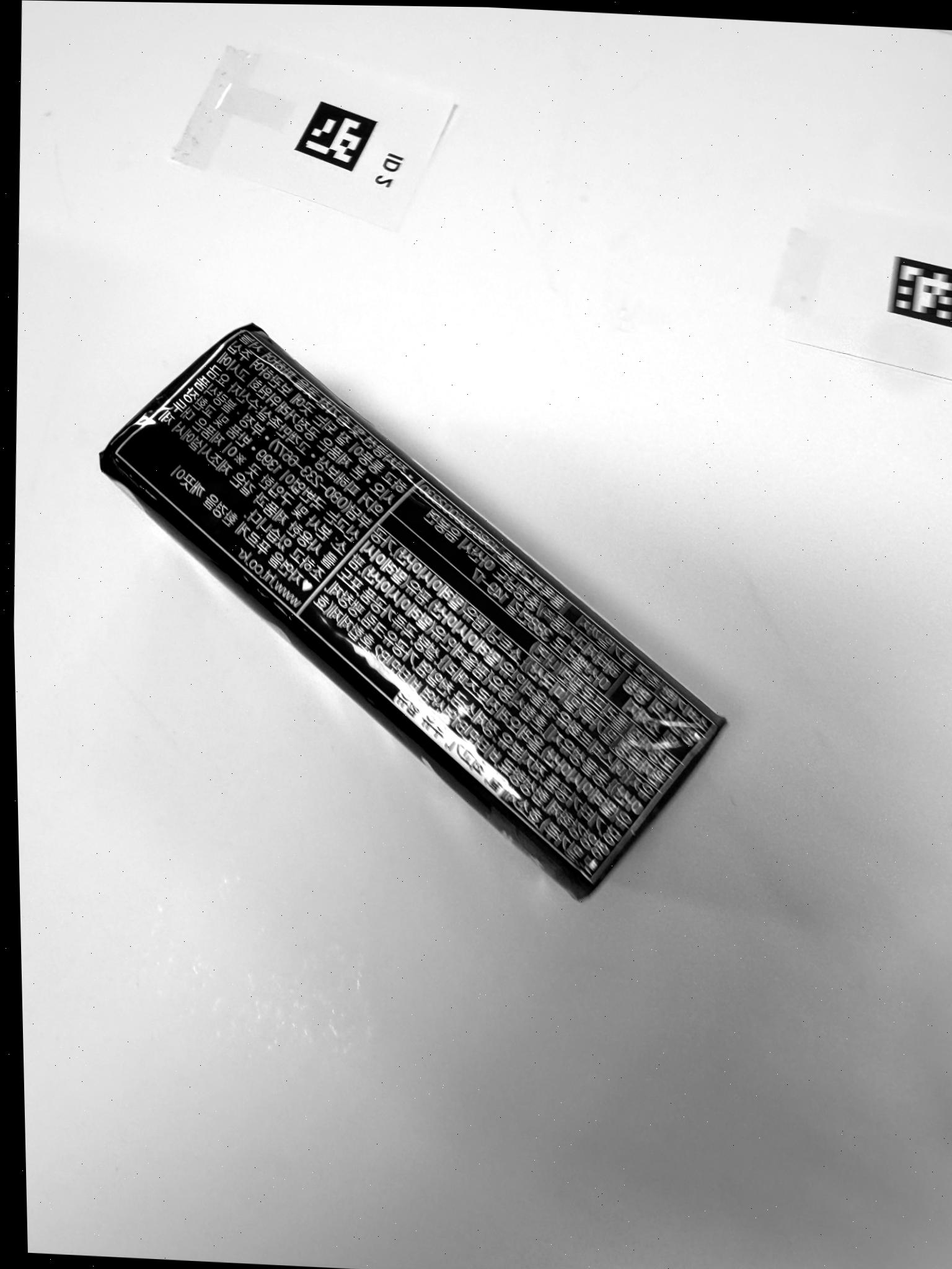cracker_ace: (102, 326, 723, 897)
